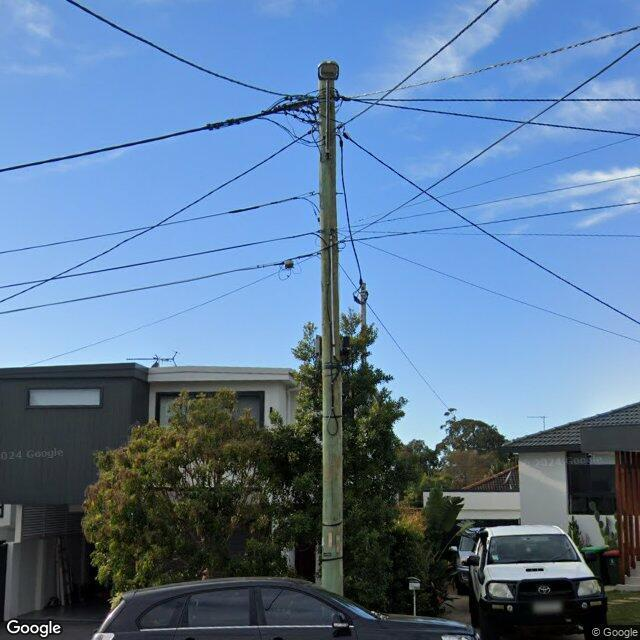timber-pole: (317, 61, 344, 602)
